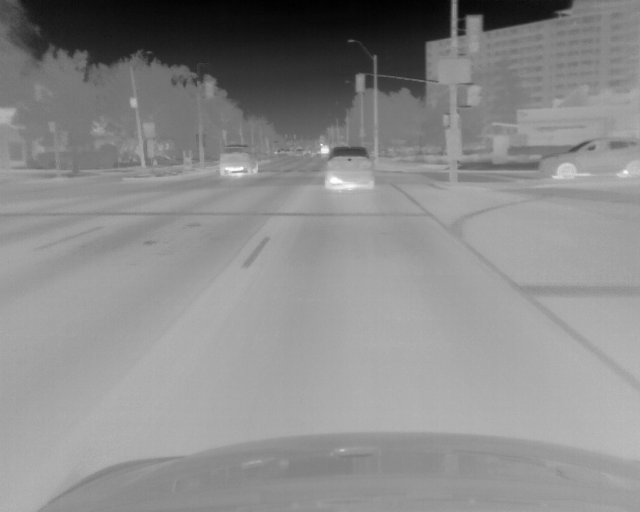car: (536, 131, 640, 181), (322, 146, 372, 189), (218, 143, 258, 177)
